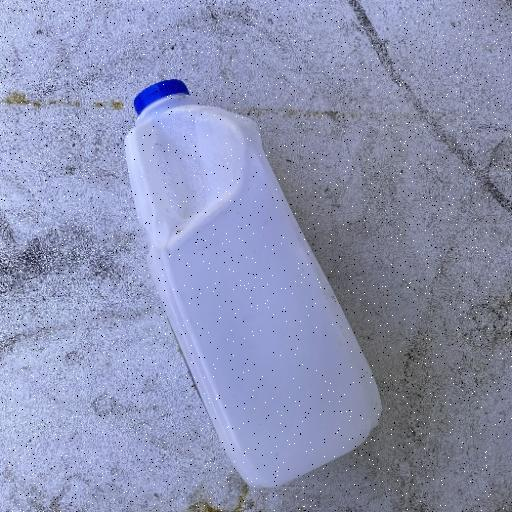Plastic: (121, 77, 385, 491)
